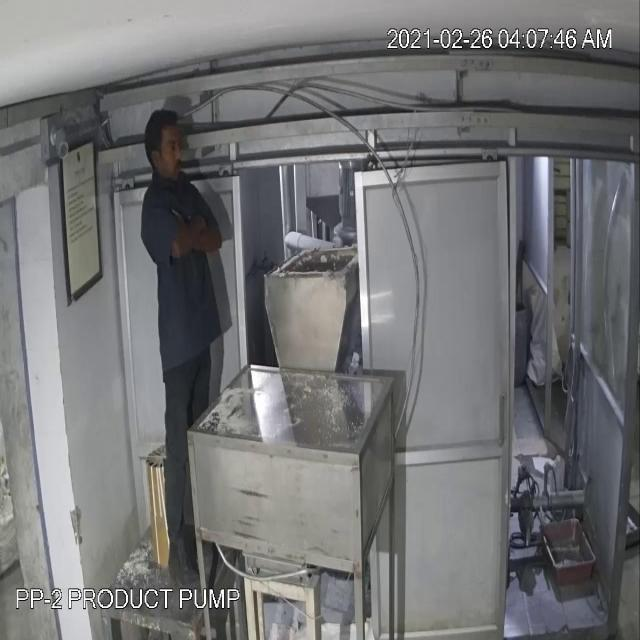no-helmet: (140, 103, 182, 155)
